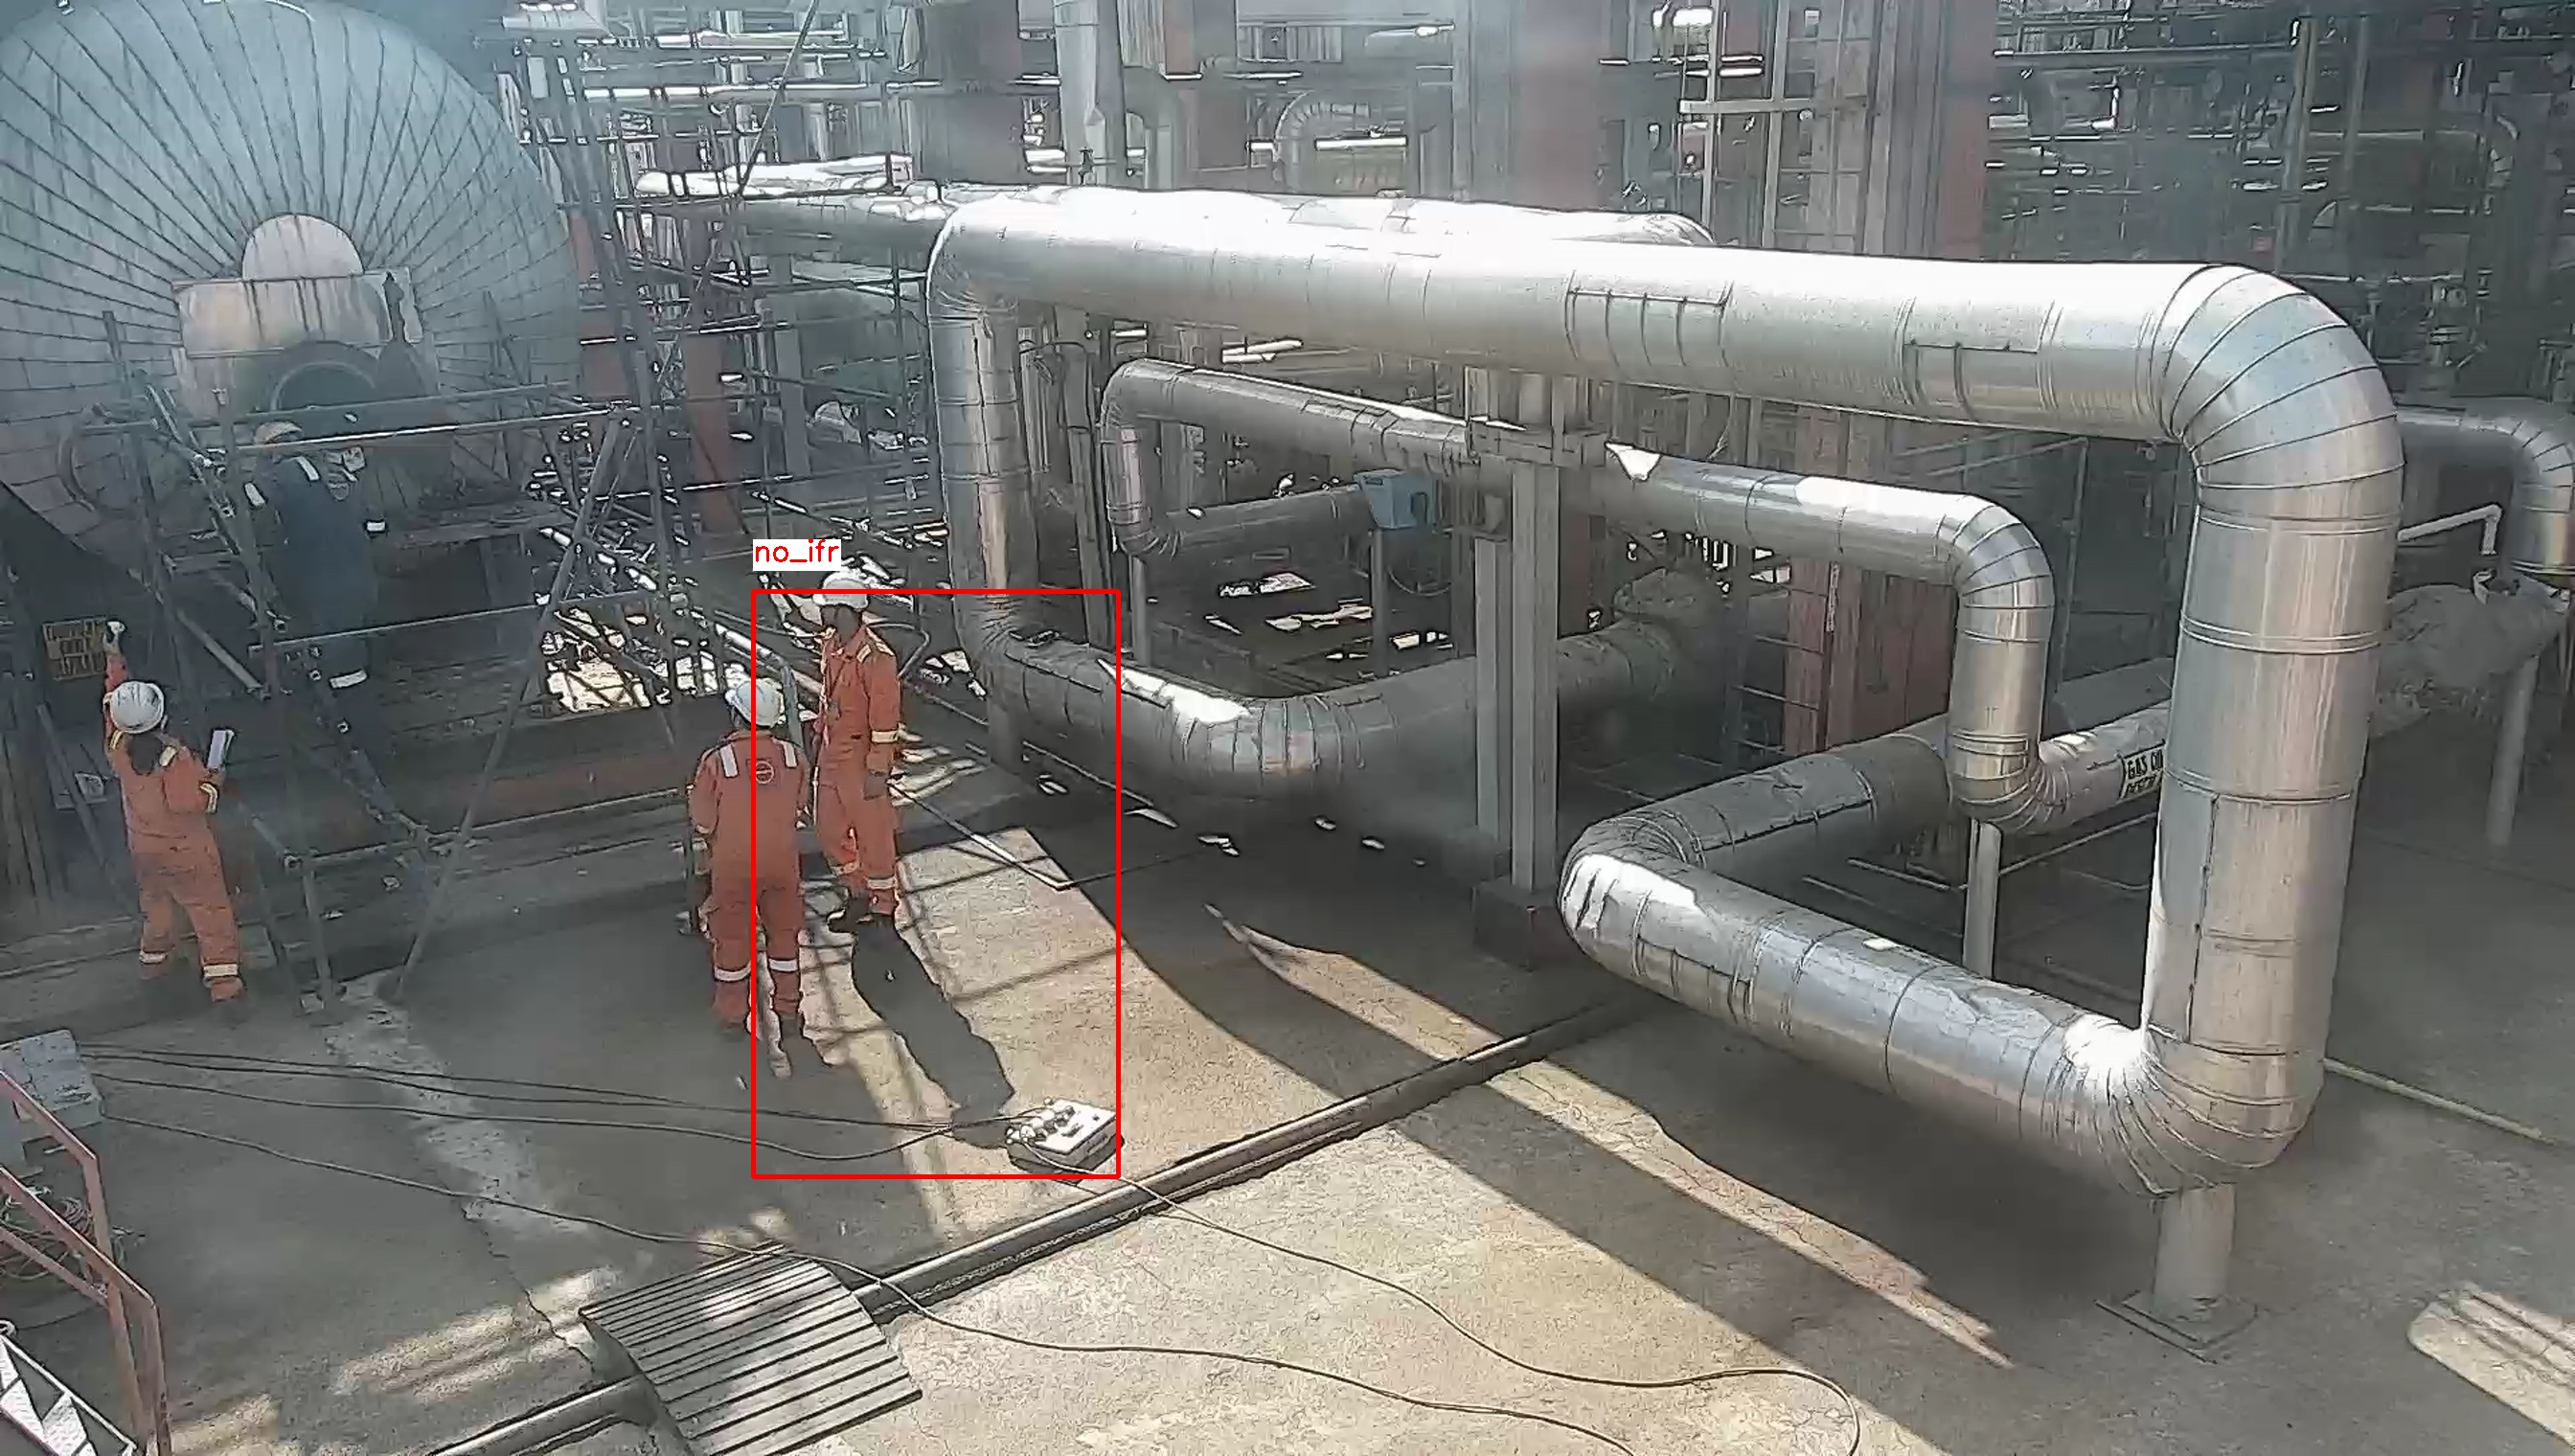Boots: (821, 890, 923, 957), (692, 1012, 821, 1060)
Helmets: (716, 669, 789, 734), (104, 672, 173, 736), (808, 575, 875, 617)
IFR_Suit: (94, 731, 251, 985), (688, 732, 821, 1014), (812, 626, 909, 908)
